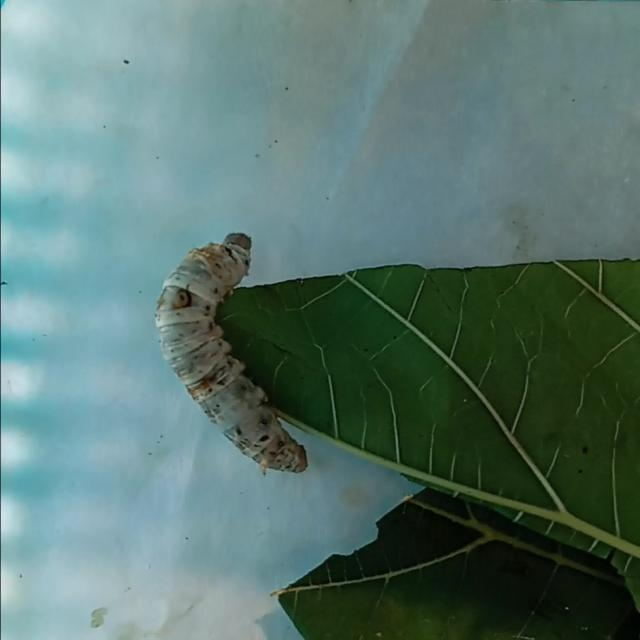Grasserie: (148, 176, 341, 498)
